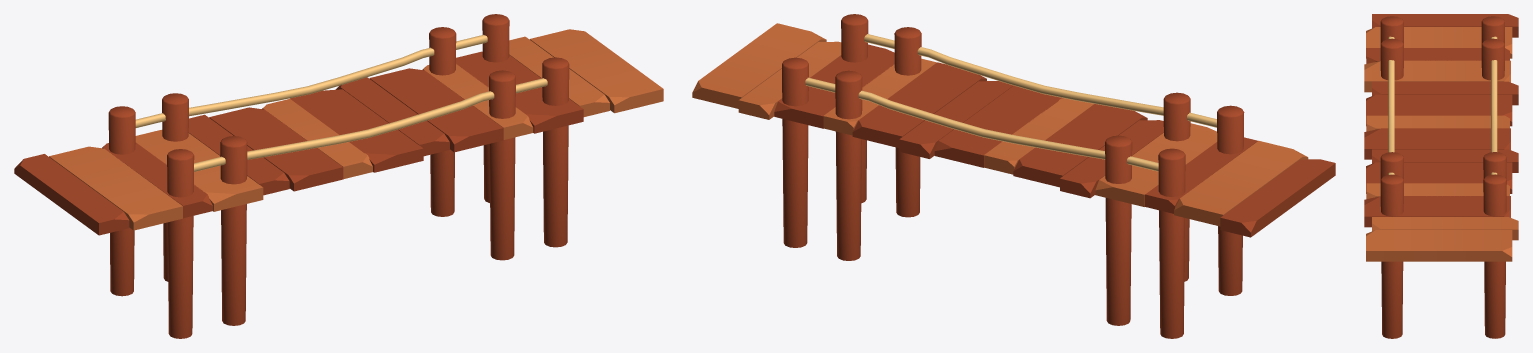
File: dock-02.glb
3 renders of one model, left to right at view 1: azimuth 30°, elevation 25°; view 2: azimuth 150°, elevation 25°; view 3: azimuth 270°, elevation 25°, orthographic. The views are drawn at different scales.
Parts seen in each view (by area): view 1: dock 02; view 2: dock 02; view 3: dock 02.
Part boxes in pixels (x1=…): dock 02: x1=14, y1=14, x2=663, y2=338; dock 02: x1=692, y1=14, x2=1335, y2=338; dock 02: x1=1364, y1=14, x2=1518, y2=338.
Size of the model in its own units: 6.49 by 1.99 by 1.79.
1 material, 1 textured.
